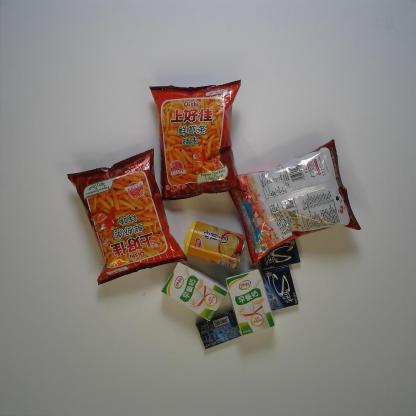Canned Food: (183, 219, 247, 270)
Gum: (196, 309, 242, 349), (261, 265, 299, 311), (260, 237, 300, 272)
Milk: (160, 261, 228, 322), (226, 268, 275, 337)
Puffed Food: (227, 137, 362, 265), (67, 148, 188, 286), (148, 79, 244, 200)
